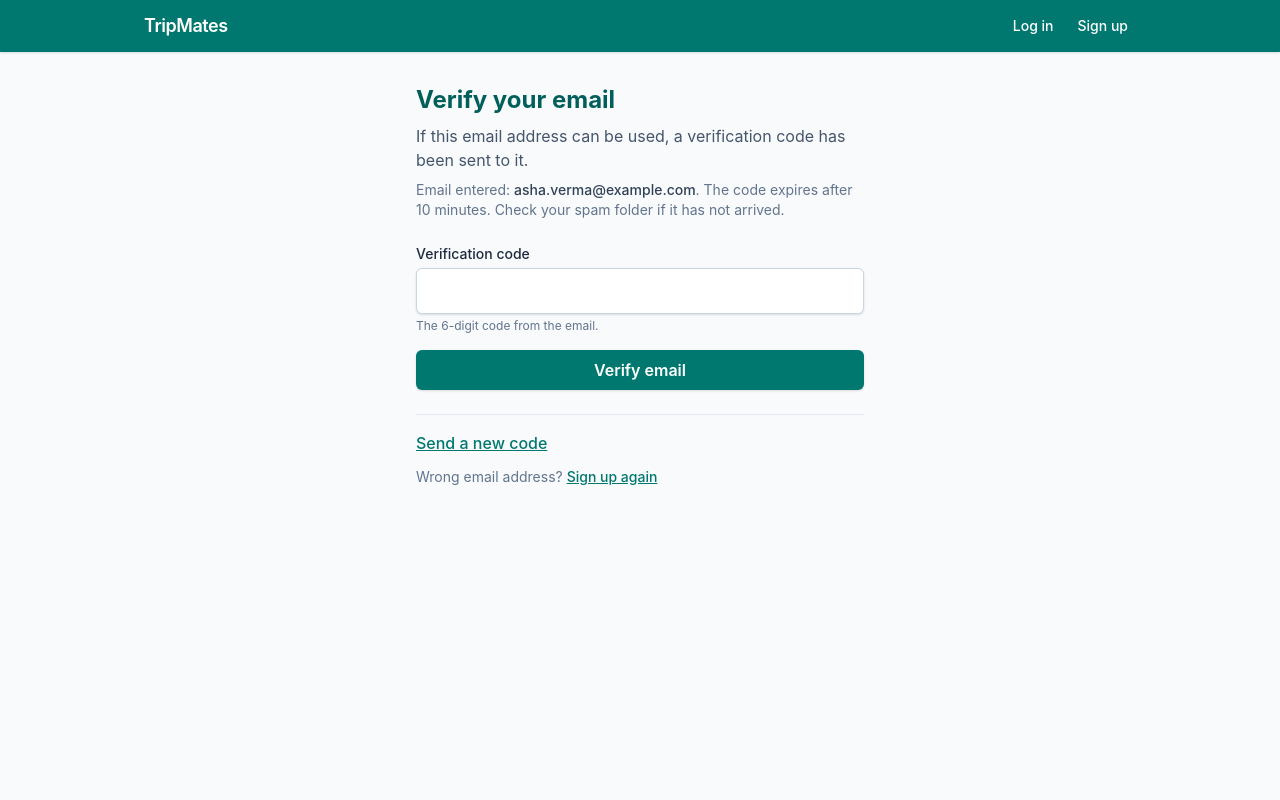
Test: verify-email screen › holds resend back during the cooldown, then swaps in the new verificationId
This screenshot has width=1280, height=800.
Click the button "Send a new code" at (482, 443), box [416,431,547,455]
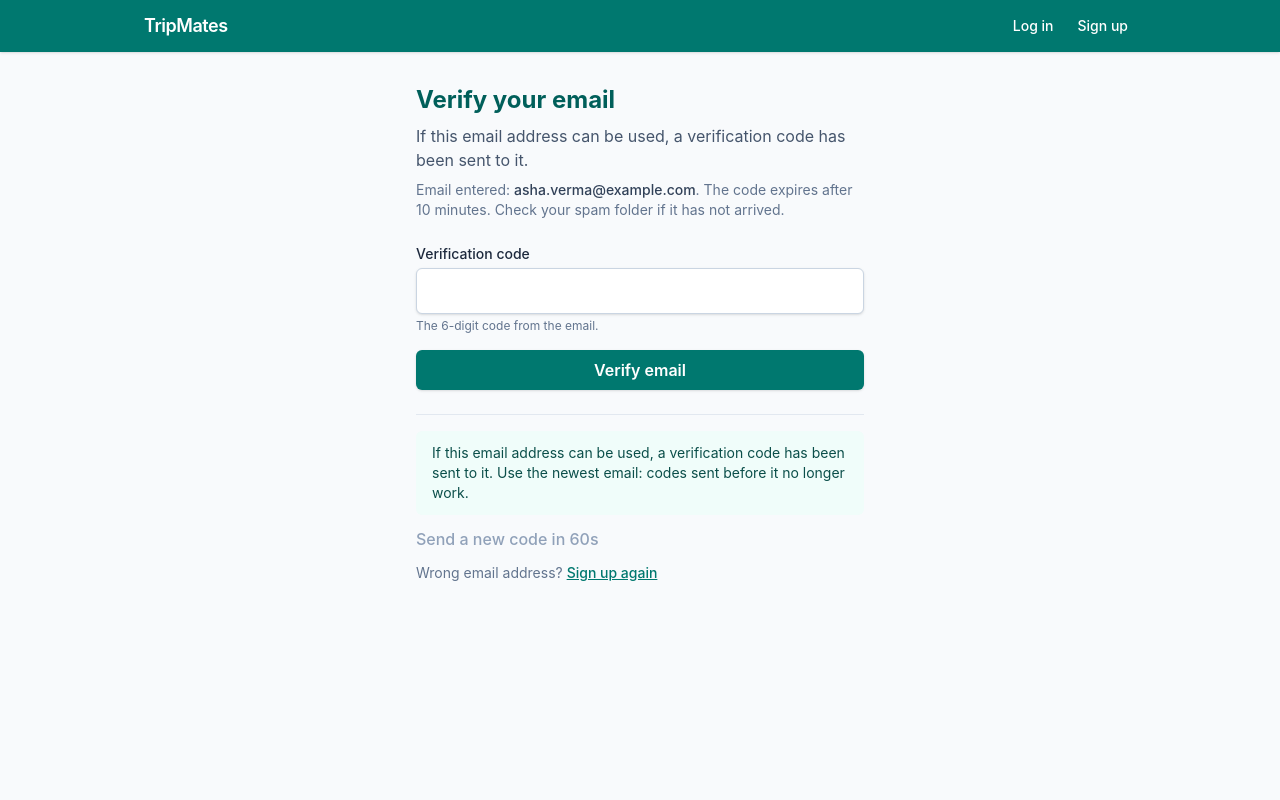
Now the text "codes sent before it no longer work" is shown, box [432,464,845,501]
Now the button "Send a new code in 60s" is disabled, box [416,527,599,551]
